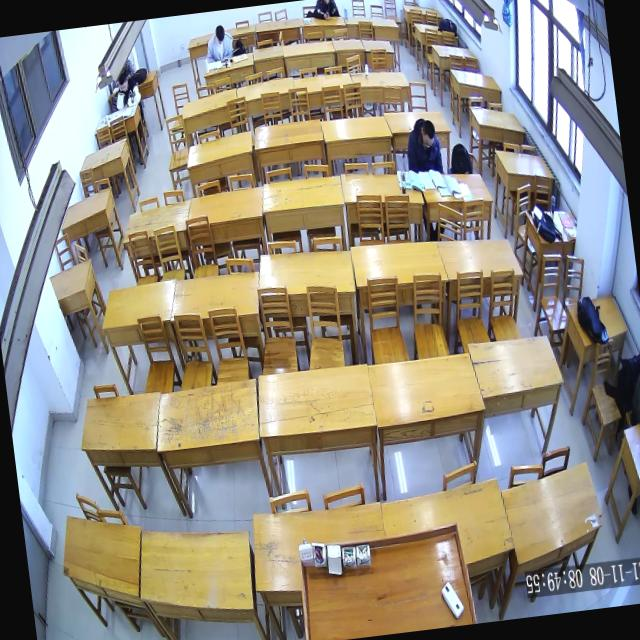down: (419, 118, 437, 148), (214, 24, 226, 44), (117, 73, 128, 92)
sit: (402, 116, 444, 177), (203, 23, 235, 62), (112, 71, 142, 109)
